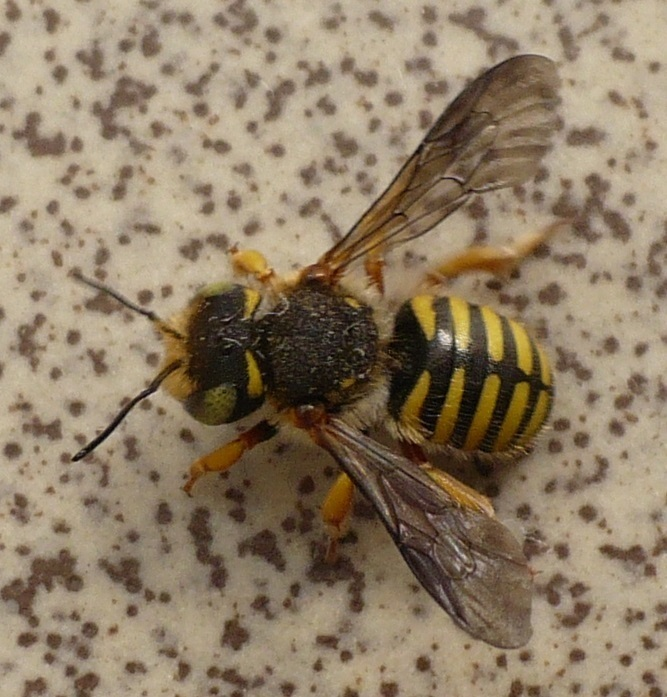not_bumblebee: (69, 54, 567, 650)
